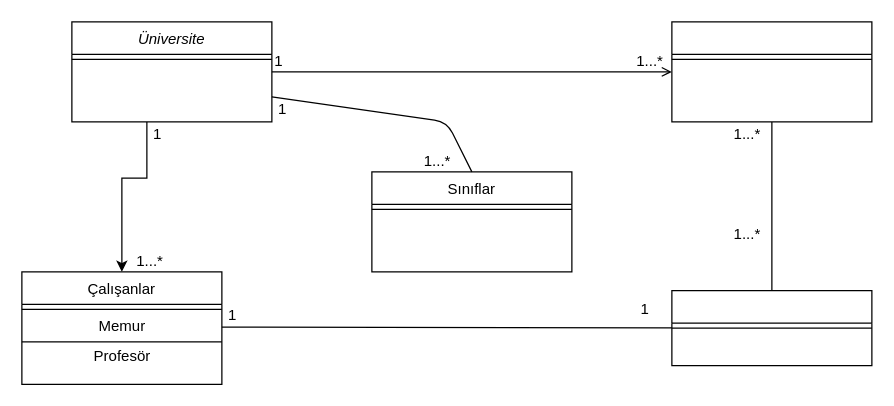
This 894x406 diagram has some shape labels left out. The centre of each missing label's shape, as x and y in pixels:
Departman: [771,71]
Ofisler: [771,327]
